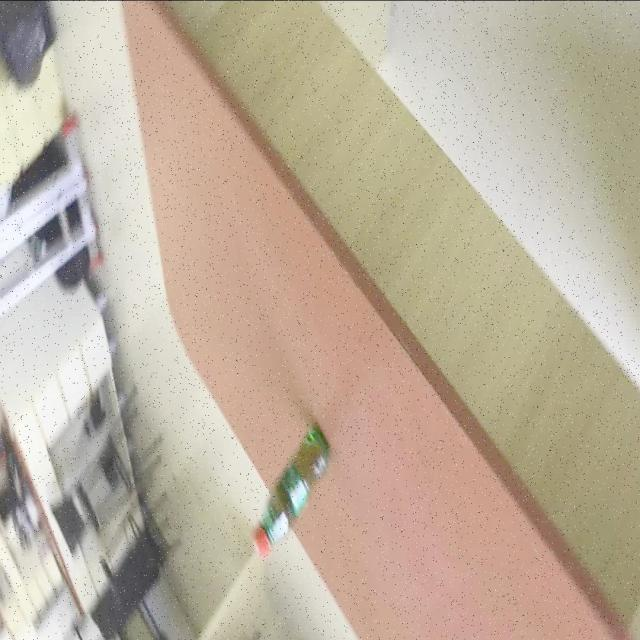Guarana: (250, 422, 332, 562)
